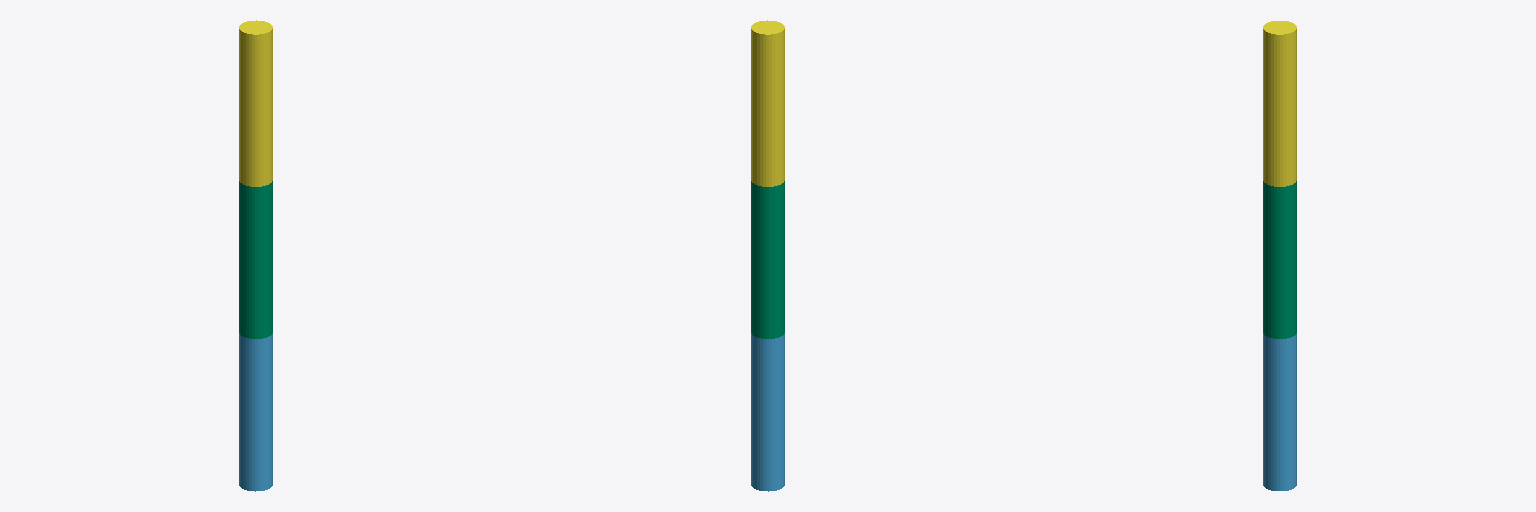
robot.urdf — simple_arm:
<?xml version="1.0"?>
<robot name="simple_arm">

  <link name="base_link"/>

  <link name="link1">
    <visual>
      <origin xyz="0 0 0.15" rpy="0 0 0"/>
      <geometry>
        <cylinder length="0.30" radius="0.03"/>
      </geometry>
    </visual>
  </link>

  <joint name="joint1" type="revolute">
    <parent link="base_link"/>
    <child link="link1"/>
    <origin xyz="0 0 0" rpy="0 0 0"/>
    <axis xyz="0 0 1"/>
    <limit lower="-3.14" upper="3.14" effort="5.0" velocity="1.0"/>
  </joint>
  
  <link name="link2">
    <visual>
      <origin xyz="0 0 0.15" rpy="0 0 0"/>
      <geometry>
        <cylinder length="0.30" radius="0.03"/>
      </geometry>
    </visual>
  </link>

  <joint name="joint2" type="revolute">
    <parent link="link1"/>
    <child link="link2"/>
    <origin xyz="0 0 0.30" rpy="0 0 0"/>
    <axis xyz="0 1 0"/>
    <limit lower="-3.14" upper="3.14" effort="5.0" velocity="1.0"/>
  </joint>

    <link name="link3">
    <visual>
      <origin xyz="0 0 0.15" rpy="0 0 0"/>
      <geometry>
        <cylinder length="0.30" radius="0.03"/>
      </geometry>
    </visual>
  </link>

  <joint name="joint3" type="revolute">
    <parent link="link2"/>
    <child link="link3"/>
    <origin xyz="0 0 0.30" rpy="0 0 0"/>
    <axis xyz="1 0 0"/>
    <limit lower="-3.14" upper="3.14" effort="5.0" velocity="1.0"/>
  </joint>


  <!-- ros2_control: fake hardware so you can test controllers without Gazebo/hardware -->
    <ros2_control name="SimpleArmSystem" type="system">
    <hardware>
      <plugin>mock_components/GenericSystem</plugin>
    </hardware>

    <joint name="joint1">
      <command_interface name="position"/>
      <state_interface name="position"/>
      <state_interface name="velocity"/>
    </joint>

    <joint name="joint2">
      <command_interface name="position"/>
      <state_interface name="position"/>
      <state_interface name="velocity"/>
    </joint>

    <joint name="joint3">
      <command_interface name="position"/>
      <state_interface name="position"/>
      <state_interface name="velocity"/>
    </joint>

  </ros2_control>


  <!-- transmission is expected by many control setups -->
  <transmission name="joint1_transmission">
    <type>transmission_interface/SimpleTransmission</type>
    <joint name="joint1">
      <hardwareInterface>hardware_interface/position</hardwareInterface>
    </joint>
    <actuator name="joint1_motor">
      <hardwareInterface>hardware_interface/position</hardwareInterface>
      <mechanicalReduction>1</mechanicalReduction>
    </actuator>
  </transmission>

    <transmission name="joint2_transmission">
    <type>transmission_interface/SimpleTransmission</type>
    <joint name="joint2">
      <hardwareInterface>hardware_interface/position</hardwareInterface>
    </joint>
    <actuator name="joint2_motor">
      <hardwareInterface>hardware_interface/position</hardwareInterface>
      <mechanicalReduction>1</mechanicalReduction>
    </actuator>
  </transmission>

  <transmission name="joint3_transmission">
    <type>transmission_interface/SimpleTransmission</type>
    <joint name="joint3">
      <hardwareInterface>hardware_interface/position</hardwareInterface>
    </joint>
    <actuator name="joint3_motor">
      <hardwareInterface>hardware_interface/position</hardwareInterface>
      <mechanicalReduction>1</mechanicalReduction>
    </actuator>
  </transmission>

  

</robot>

--- What the picture shows (computed from the rendered views, not written in the file) ---
The picture shows the robot from 3 angles, left to right: view 1: azimuth 30°, elevation 25°; view 2: azimuth 150°, elevation 25°; view 3: azimuth 270°, elevation 25°; orthographic projection.
Model simple_arm with 4 links and 3 joints (3 revolute), rooted at base_link, posed all joints at 0.
Visible links, largest first — view 1: link3, link1, link2; view 2: link3, link1, link2; view 3: link3, link1, link2.
Link boxes in pixels (box(x1,y1,x2,y2)): link3: box(239, 20, 272, 186); link1: box(239, 333, 272, 491); link2: box(239, 181, 272, 338); link3: box(751, 20, 784, 186); link1: box(751, 333, 784, 491); link2: box(751, 181, 784, 338); link3: box(1263, 21, 1296, 186); link1: box(1263, 333, 1296, 490); link2: box(1263, 181, 1296, 338).
Size in the robot's own frame: 0.06 by 0.06 by 0.9 metres.
Geometry: primitives only (box / cylinder / sphere), no mesh files.